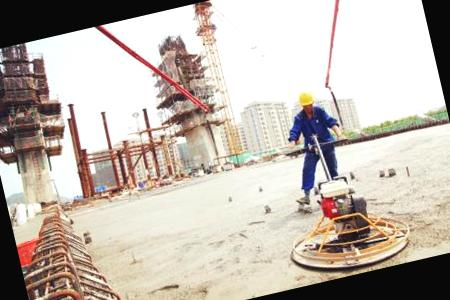person: (272, 82, 359, 216)
